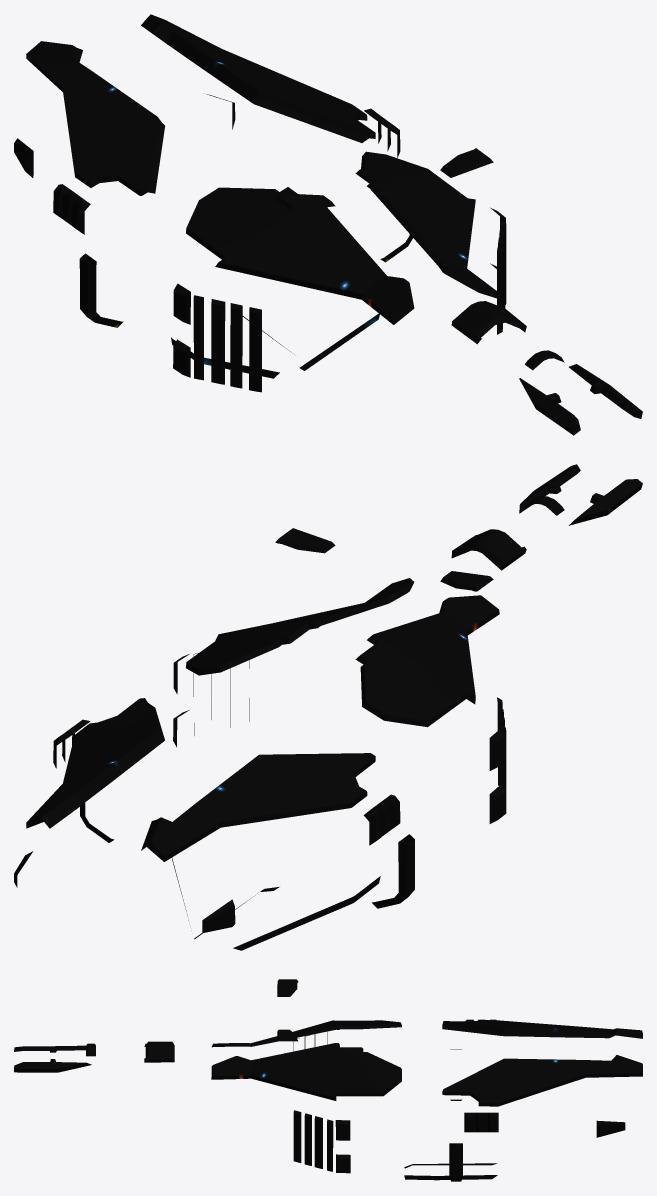
The model's file is tan_civ_02.glb.
The picture shows the model from 3 angles, top to bottom: view 1: azimuth 30°, elevation 25°; view 2: azimuth 150°, elevation 25°; view 3: azimuth 270°, elevation 25°; orthographic projection. The views are drawn at different scales.
Visible parts, largest first — view 1: tan_civ_ship_02_LOD0; view 2: tan_civ_ship_02_LOD0; view 3: tan_civ_ship_02_LOD0.
Part boxes in pixels (box(x1,y1,x2,y2)): tan_civ_ship_02_LOD0: box(14, 14, 642, 435); tan_civ_ship_02_LOD0: box(14, 464, 642, 950); tan_civ_ship_02_LOD0: box(14, 979, 642, 1181).
Size of what is drawn, in the model's own units: 2.43 by 1.9 by 6.59.
1 material, 1 textured.
